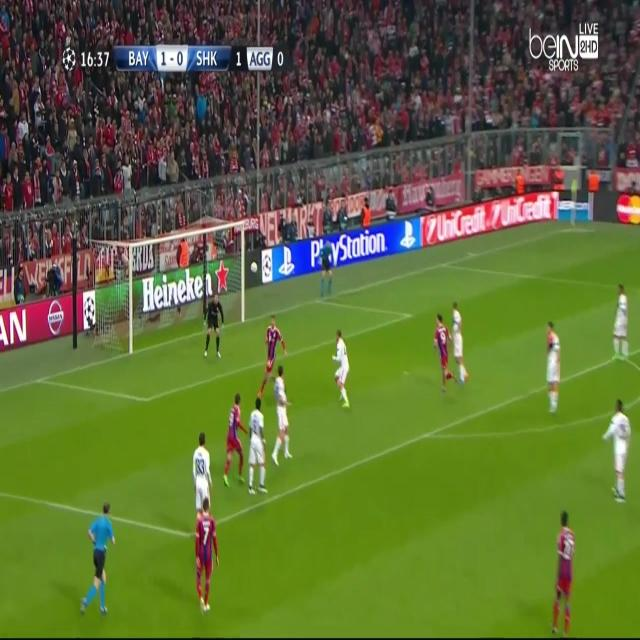Ball: (250, 258, 259, 276)
Goalkeeper: (202, 290, 226, 360)
Player: (600, 399, 634, 509), (550, 506, 578, 637), (194, 494, 222, 615), (245, 395, 271, 500), (222, 391, 249, 491), (256, 315, 288, 398), (273, 365, 295, 467), (432, 308, 458, 393), (544, 318, 566, 418), (332, 329, 354, 413), (610, 280, 632, 362), (450, 298, 470, 388), (191, 432, 214, 510)
Referee: (79, 499, 119, 619), (316, 235, 336, 302)
